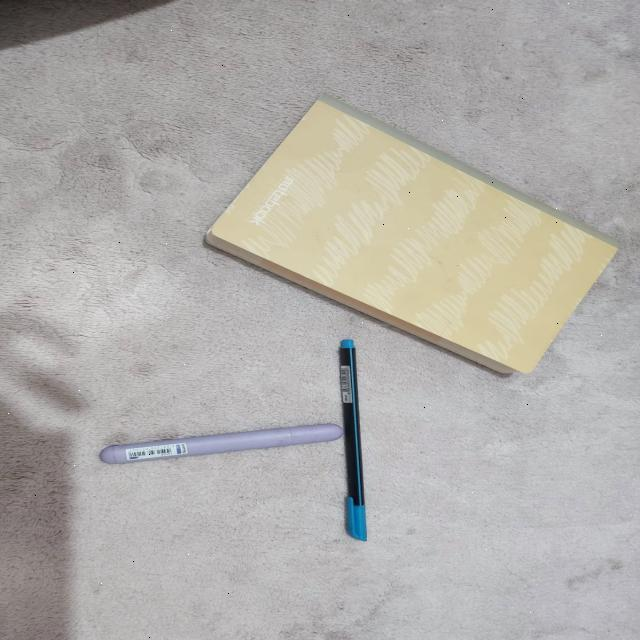defter: (203, 92, 624, 377)
kalem1: (339, 339, 368, 542)
kalem2: (99, 424, 343, 464)
